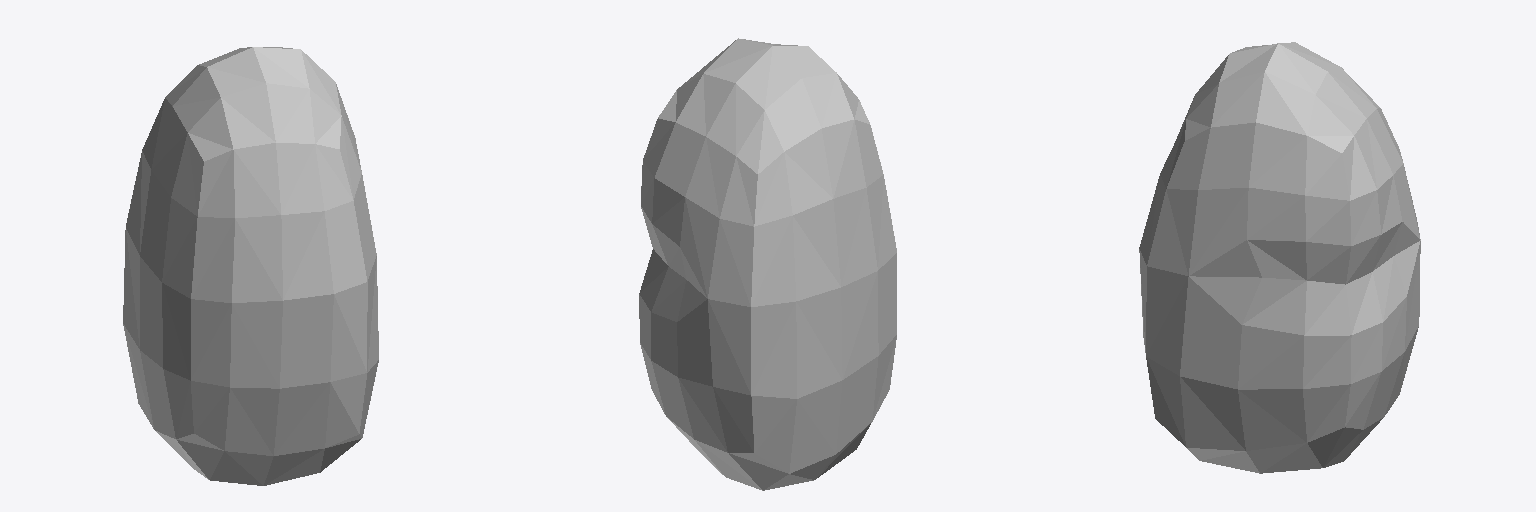
The model's file is PM3D_rock039_013.OBJ.
The picture shows the model from 3 angles: view 1: azimuth 30°, elevation 25°; view 2: azimuth 150°, elevation 25°; view 3: azimuth 270°, elevation 25°; orthographic projection.
Visible parts, largest first — view 1: Group41597; view 2: Group41597; view 3: Group41597.
Boxes of the visible parts, box(x1,y1,x2,y2) form: Group41597: box(123, 47, 378, 485); Group41597: box(639, 38, 896, 490); Group41597: box(1139, 42, 1420, 473).
Bounding box in the file's own units: 743 × 1466 × 887.